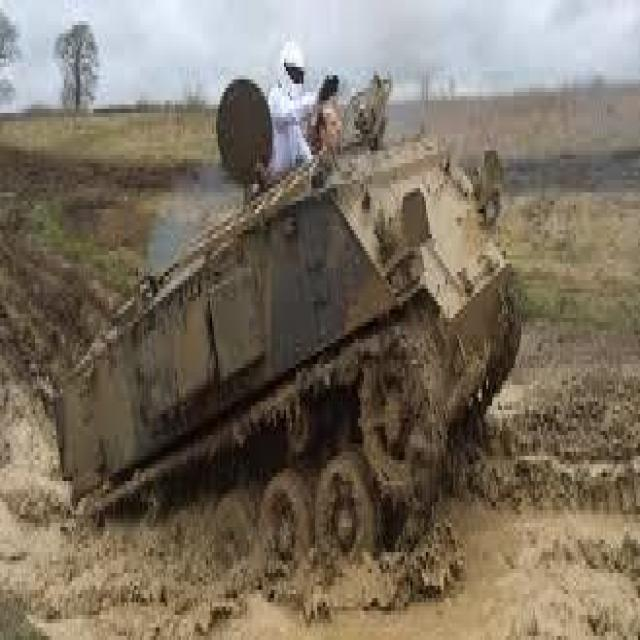MIL_MBT: (47, 155, 543, 581)
